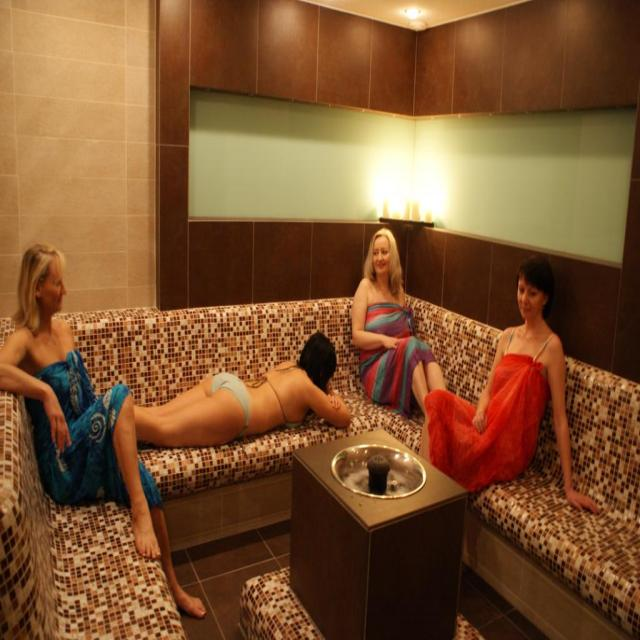nomask: (41, 258, 67, 312), (517, 270, 542, 320), (372, 235, 391, 274)
